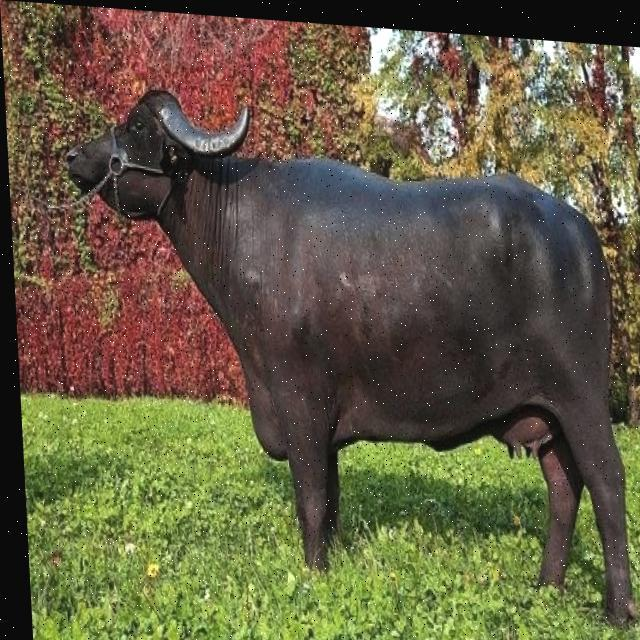Buffalo: (59, 78, 639, 629)
